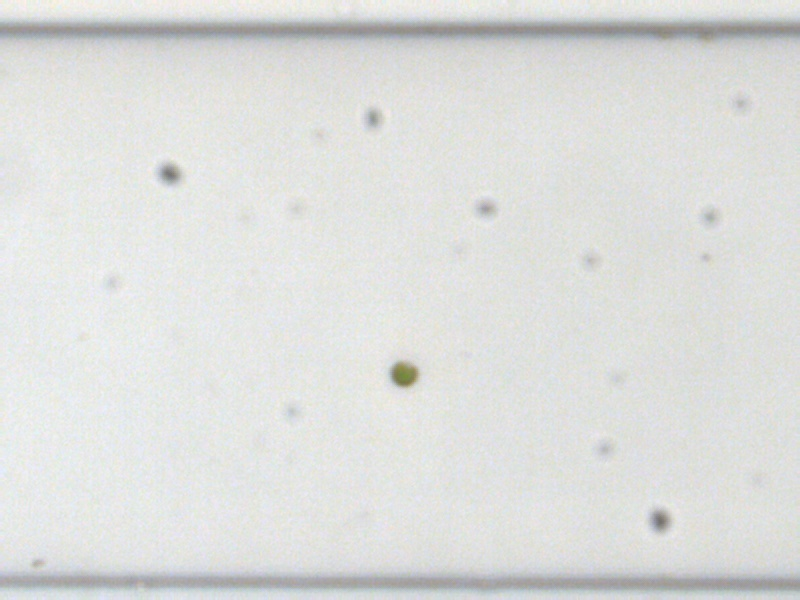Platymonas: (389, 357, 418, 387)
